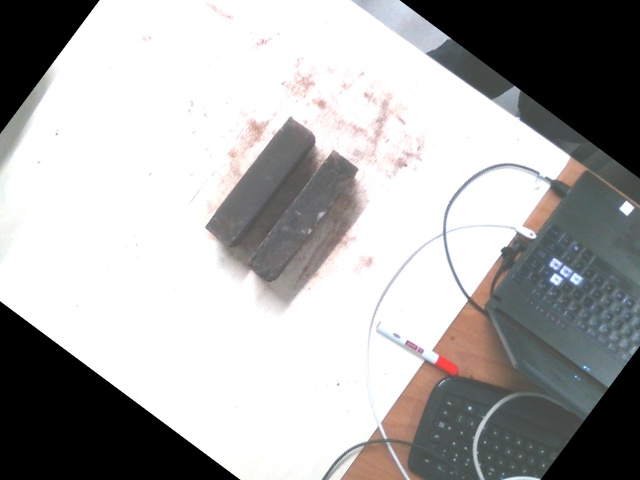brick-side: (245, 147, 359, 283), (205, 117, 312, 246)
